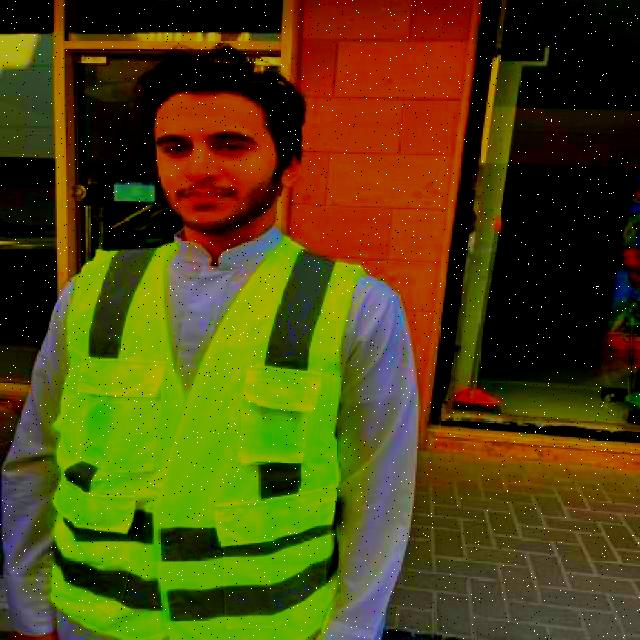Mask: (60, 235, 334, 634)
